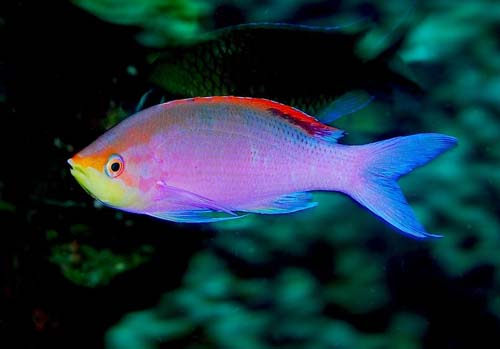fish: (67, 95, 459, 240)
